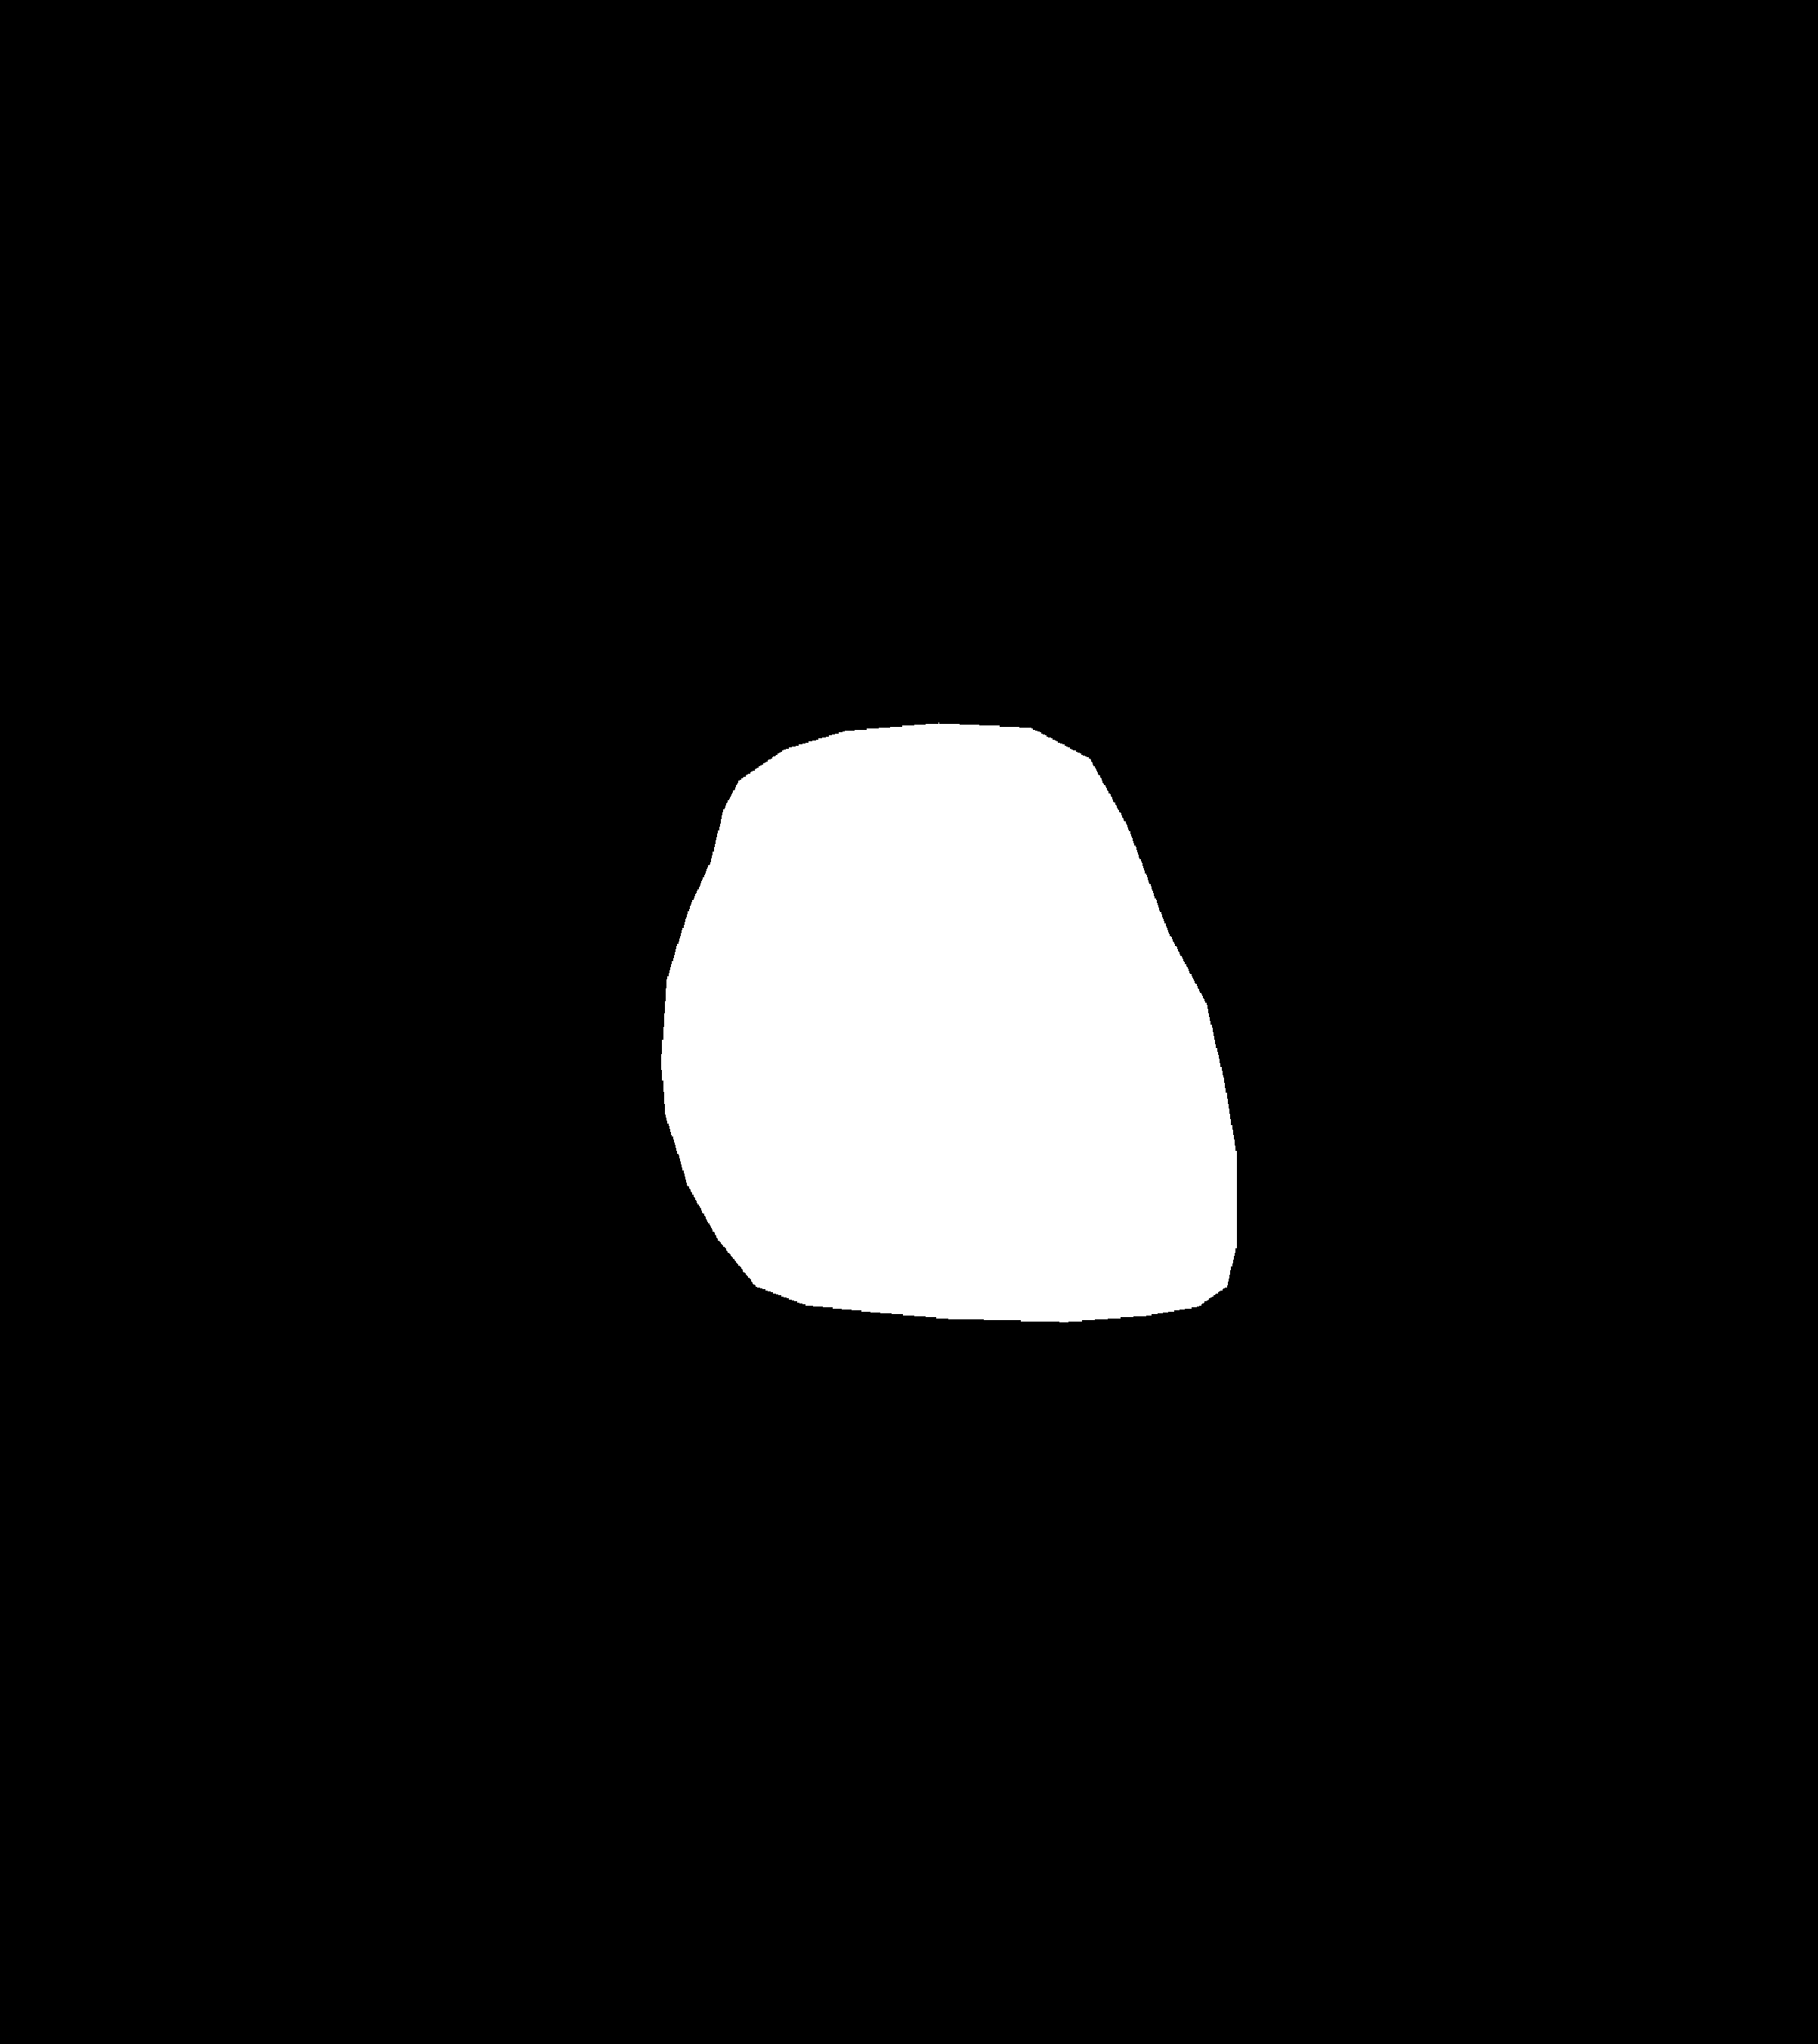heart: (663, 825, 1237, 1356)
left_lung: (247, 197, 811, 1467)
right_lung: (942, 154, 1497, 1498)
